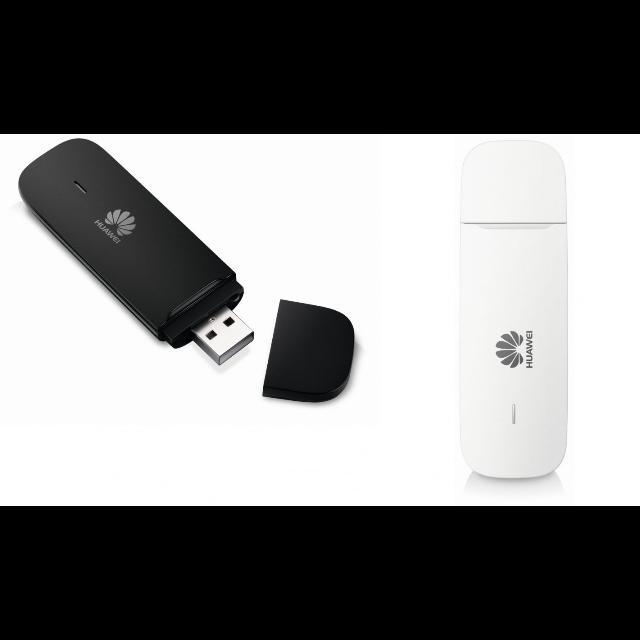USB-Flash-Drive: (19, 138, 357, 412), (440, 142, 578, 484)
